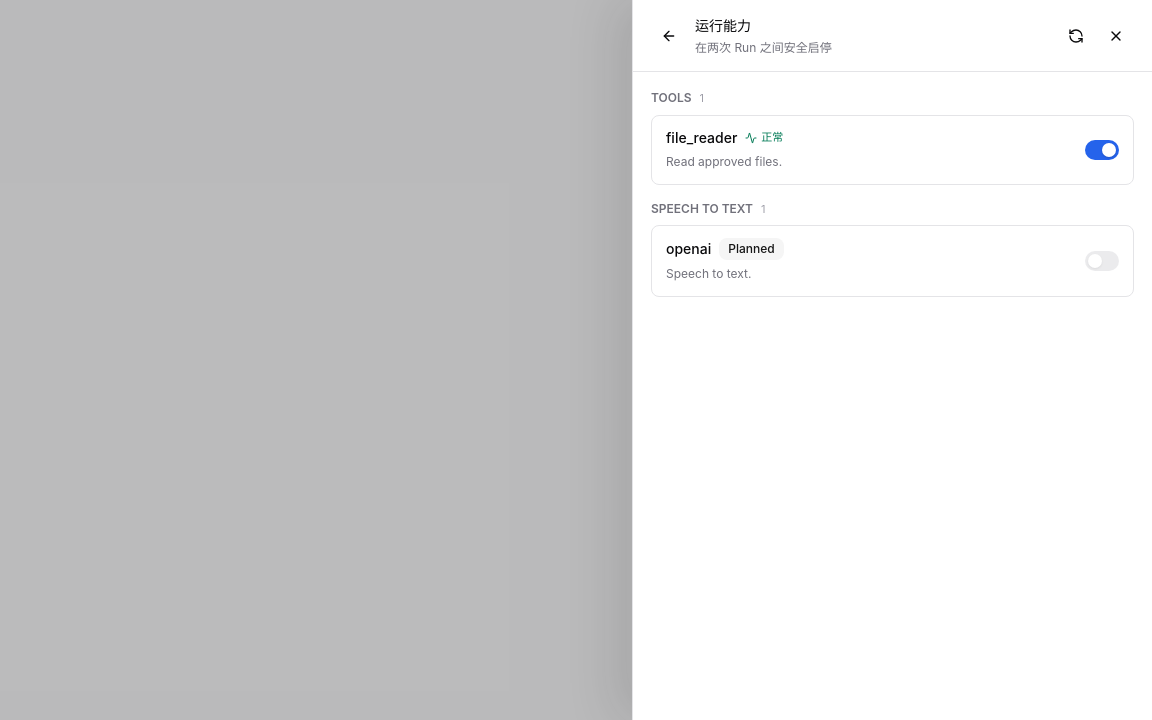
Test: CapabilitySettingsPanel › disables an available capability for subsequent runs
Click the switch named "禁用 tool:file_reader" at [1102, 150], box [1085, 140, 1119, 160]
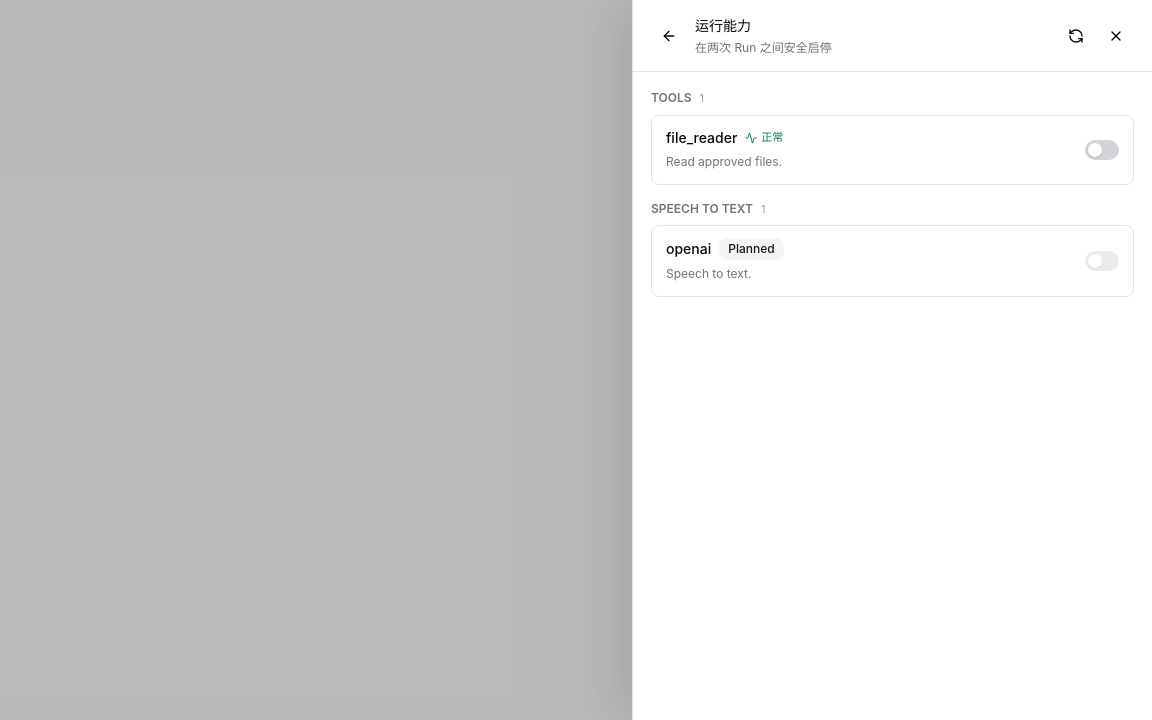
Expected: the switch named "启用 tool:file_reader" is shown, [1085, 140, 1119, 160]
